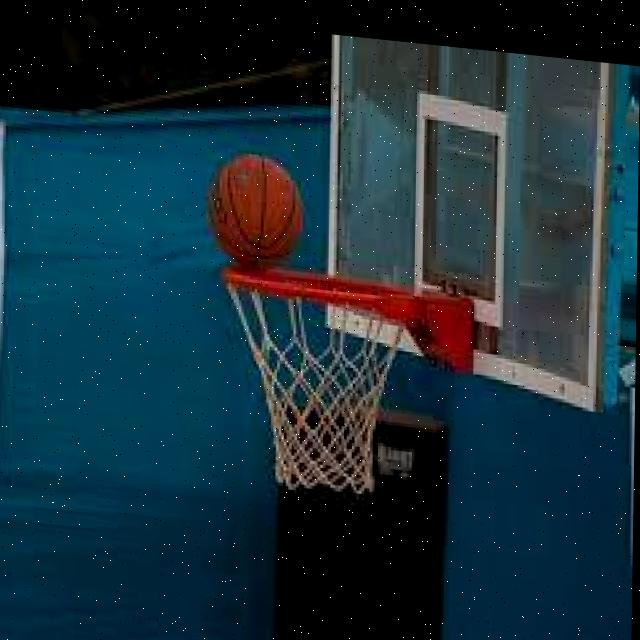basketball: (210, 153, 301, 268)
hoop: (221, 264, 412, 499)
